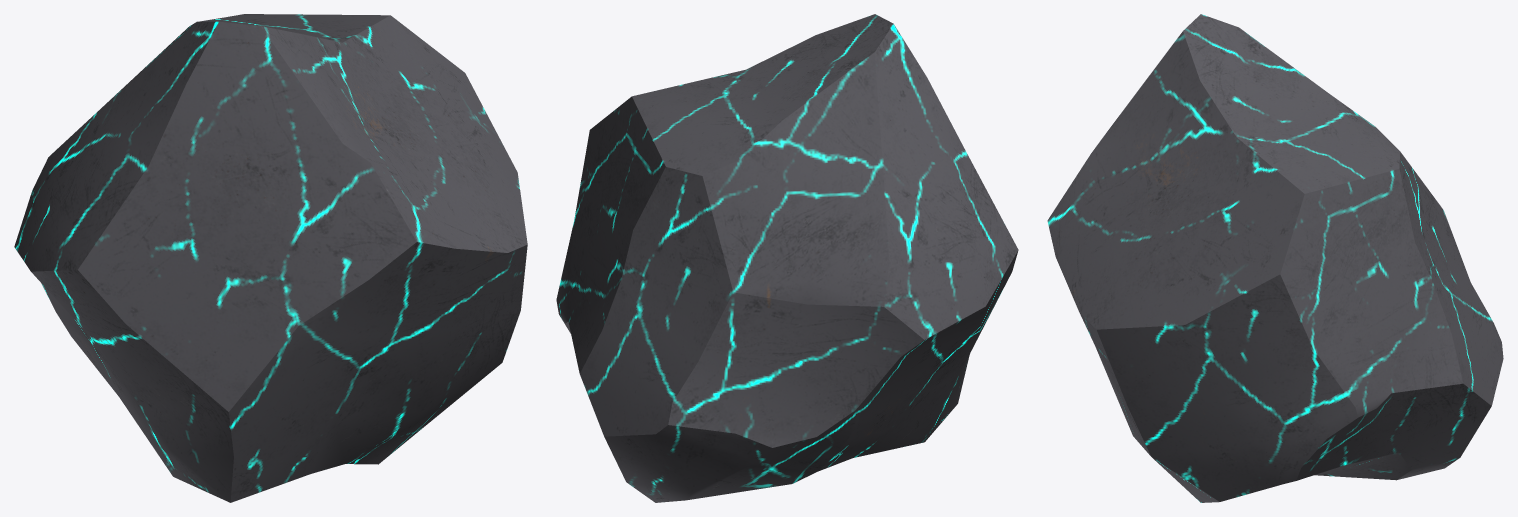
The model's file is alien_stone.glb.
3 renders of one model, left to right at view 1: azimuth 30°, elevation 25°; view 2: azimuth 150°, elevation 25°; view 3: azimuth 270°, elevation 25°, orthographic. The views are drawn at different scales.
Parts seen in each view (by area): view 1: Stone_Low_Poly; view 2: Stone_Low_Poly; view 3: Stone_Low_Poly.
Boxes of the visible parts, left/top/right/bottom form: Stone_Low_Poly: left=14, top=14, right=527, bottom=502; Stone_Low_Poly: left=556, top=14, right=1018, bottom=502; Stone_Low_Poly: left=1047, top=14, right=1503, bottom=502.
Size of the model in its own units: 0.9361 by 0.9796 by 0.9617.
1 material, 1 textured.
